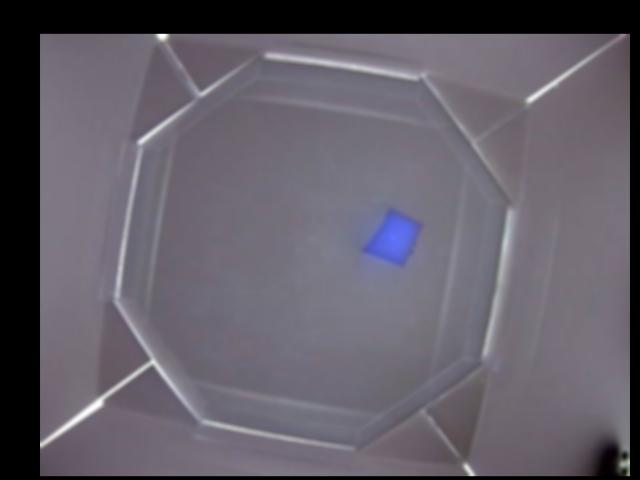Potato: (363, 209, 420, 270)
